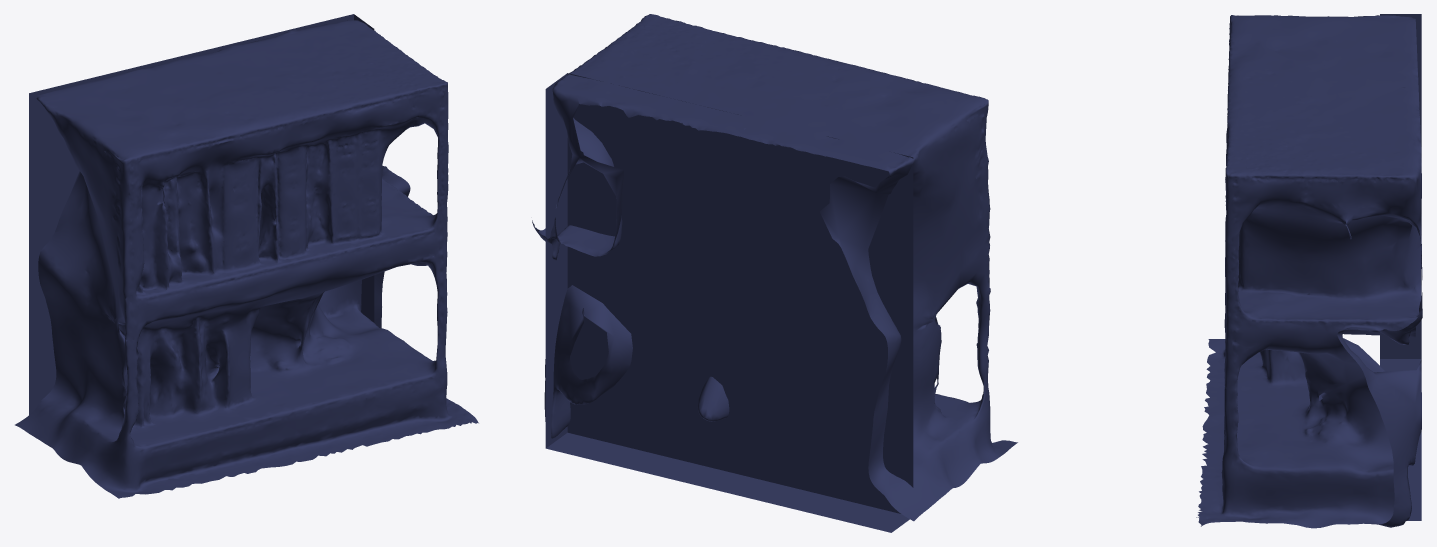
File: Cabinet02.fbx
3 views of the same model, side by side, from view 1: azimuth 30°, elevation 25°; view 2: azimuth 150°, elevation 25°; view 3: azimuth 270°, elevation 25° (orthographic). The views are drawn at different scales.
Parts seen in each view (by area): view 1: Cabinet2; view 2: Cabinet2; view 3: Cabinet2.
Boxes of the visible parts, <box> form: Cabinet2: <box>15,14,478,498</box>; Cabinet2: <box>532,14,1017,532</box>; Cabinet2: <box>1196,14,1422,528</box>.
Bounding box in the file's own units: 100 × 91.64 × 75.87.
